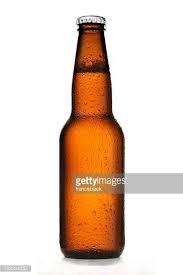Glass bottle: (46, 8, 132, 268)
